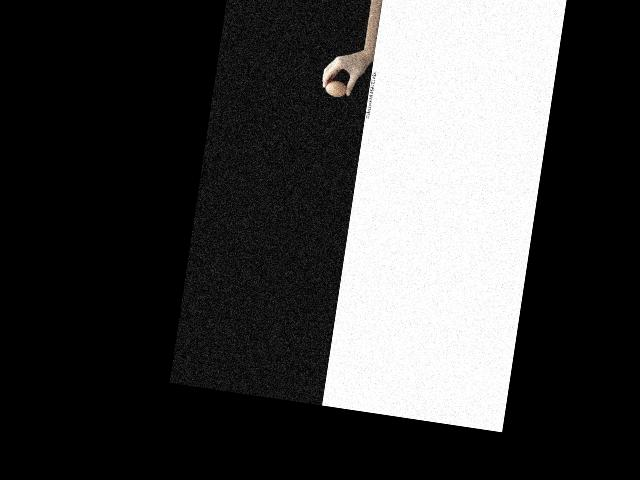egg: (323, 79, 347, 98)
